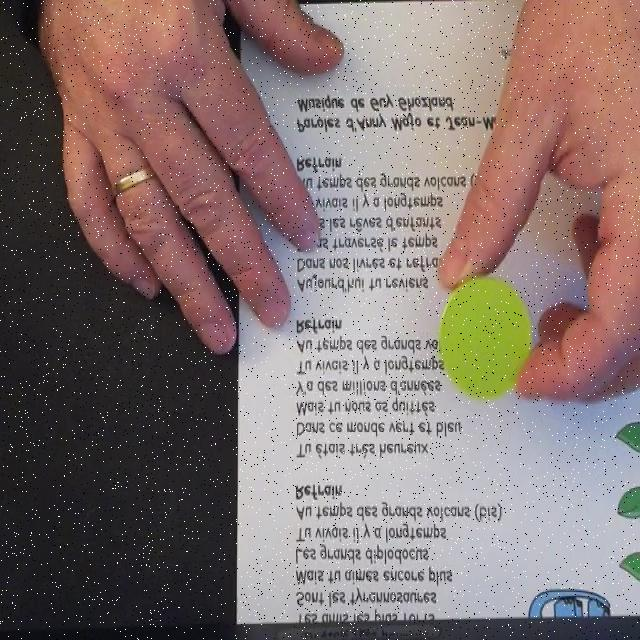round: (438, 276, 534, 401)
